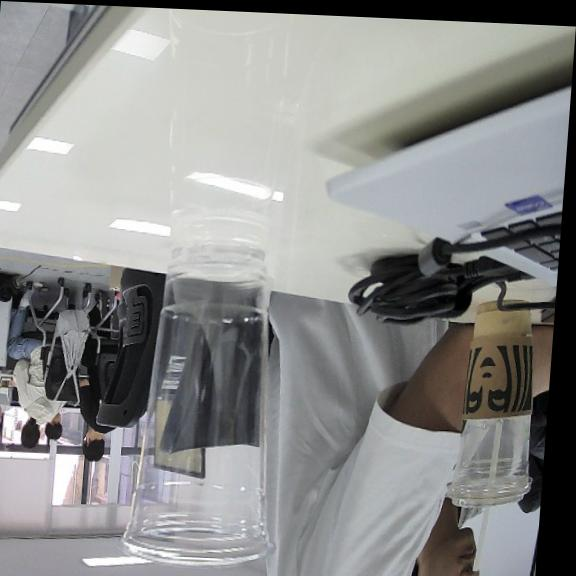Plastik: (121, 239, 269, 565)
